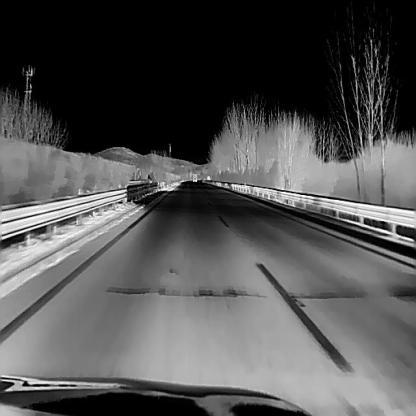car: (192, 172, 196, 182)
